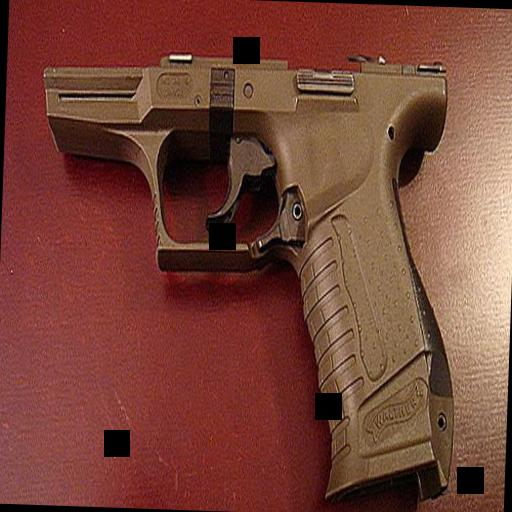Handgun: (24, 38, 465, 499)
